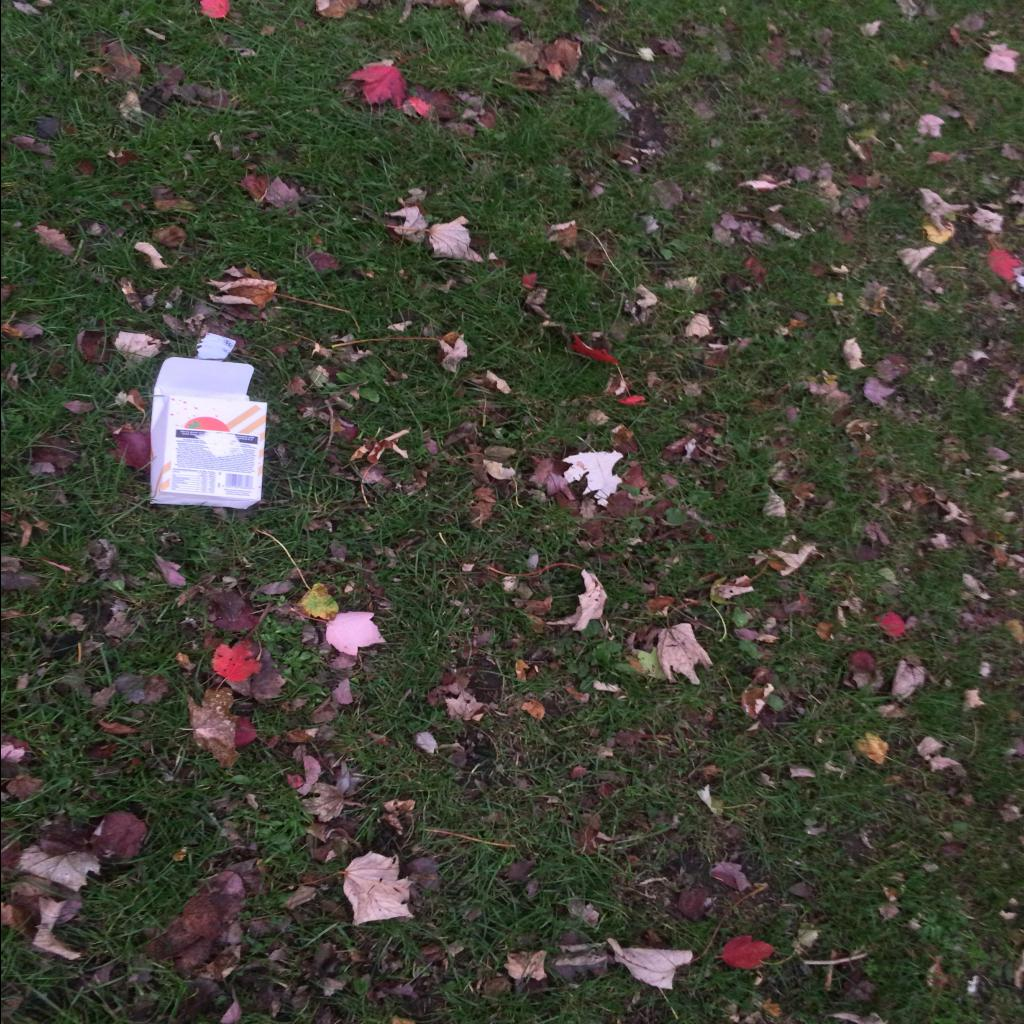Plastic film: (192, 333, 236, 362)
